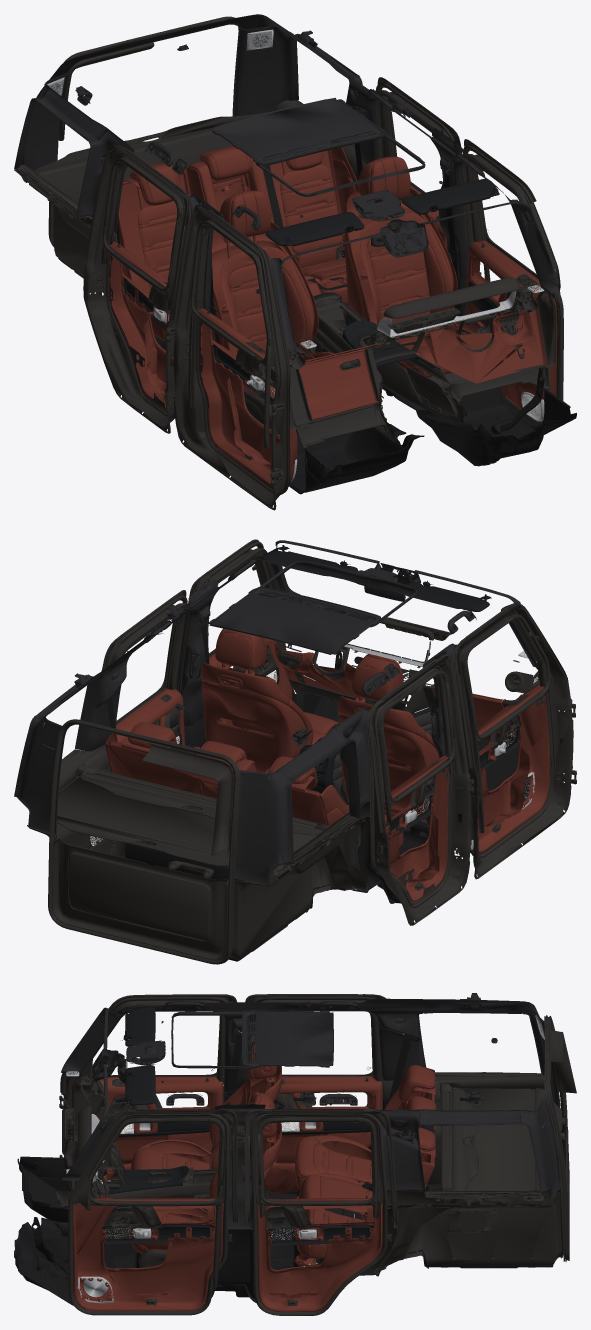
File: cabin-tailored.glb
The picture shows the model from 3 angles, top to bottom: view 1: azimuth 30°, elevation 25°; view 2: azimuth 150°, elevation 25°; view 3: azimuth 270°, elevation 25°; orthographic projection. The views are drawn at different scales.
Parts seen in each view (by area): view 1: himmel_vomi_cabinRoof, tuer_vore_cabinLeather, ita_ob_cabinLeather, tuer_hire_cabinLeather, sitz_hi_cabinAccent, boden_vomi_cabinFloor, sitz_voli_cabinAccent, sitz_vore_cabinAccent, tuer_voli_cabinLeather, kraum_mi_cabinLeather, miko_lire_cabinLeather, kraum_re_cabinLeather (+17 smaller); view 2: himmel_vomi_cabinRoof, tuer_hi_cabinLeather, tuer_vore_cabinLeather, tuer_hire_cabinLeather, kraum_mi_cabinLeather, sitz_voli_cabinAccent, kraum_re_cabinLeather, ita_ob_cabinLeather, sitz_vore_cabinAccent, sitz_hi_cabinAccent, tuer_hili_cabinLeather, boden_vomi_cabinFloor (+13 smaller); view 3: himmel_vomi_cabinRoof, tuer_voli_cabinLeather, tuer_hili_cabinLeather, kraum_li_cabinLeather, boden_vomi_cabinFloor, kraum_mi_cabinLeather, sitz_hi_cabinAccent, tuer_hire_cabinLeather, tuer_vore_cabinLeather, sitz_vore_cabinAccent, tuer_hi_cabinLeather, ita_ob_cabinLeather (+19 smaller).
Part boxes in pixels (box(x1,y1,x2,y2)): himmel_vomi_cabinRoof: box(14, 14, 558, 356); tuer_vore_cabinLeather: box(173, 204, 297, 510); ita_ob_cabinLeather: box(288, 277, 555, 448); tuer_hire_cabinLeather: box(83, 142, 193, 433); sitz_hi_cabinAccent: box(117, 147, 367, 340); boden_vomi_cabinFloor: box(154, 277, 576, 494); sitz_voli_cabinAccent: box(247, 156, 483, 377); sitz_vore_cabinAccent: box(209, 190, 337, 405); tuer_voli_cabinLeather: box(461, 139, 563, 421); kraum_mi_cabinLeather: box(34, 112, 267, 222); miko_lire_cabinLeather: box(313, 299, 468, 441); kraum_re_cabinLeather: box(14, 165, 116, 293); himmel_vomi_cabinRoof: box(14, 540, 537, 886); tuer_hi_cabinLeather: box(48, 719, 240, 964); tuer_vore_cabinLeather: box(452, 603, 576, 879); tuer_hire_cabinLeather: box(367, 654, 474, 925); kraum_mi_cabinLeather: box(57, 765, 330, 866); sitz_voli_cabinAccent: box(201, 628, 338, 772); kraum_re_cabinLeather: box(222, 799, 369, 960); ita_ob_cabinLeather: box(272, 617, 539, 748); sitz_vore_cabinAccent: box(337, 654, 438, 823); sitz_hi_cabinAccent: box(105, 733, 403, 847); tuer_hili_cabinLeather: box(101, 590, 190, 745); boden_vomi_cabinFloor: box(184, 679, 564, 903); himmel_vomi_cabinRoof: box(61, 993, 560, 1229); tuer_voli_cabinLeather: box(68, 1109, 237, 1315); tuer_hili_cabinLeather: box(244, 1109, 397, 1315); kraum_li_cabinLeather: box(374, 1189, 562, 1273); boden_vomi_cabinFloor: box(14, 1098, 398, 1305); kraum_mi_cabinLeather: box(440, 1084, 562, 1202); sitz_hi_cabinAccent: box(295, 1067, 435, 1270); tuer_hire_cabinLeather: box(245, 994, 385, 1194); tuer_vore_cabinLeather: box(59, 994, 236, 1181); sitz_vore_cabinAccent: box(131, 1043, 281, 1181); tuer_hi_cabinLeather: box(544, 1015, 576, 1261); ita_ob_cabinLeather: box(58, 1074, 125, 1262).
Size of the model in its own units: 1.78 by 1.38 by 3.14.
